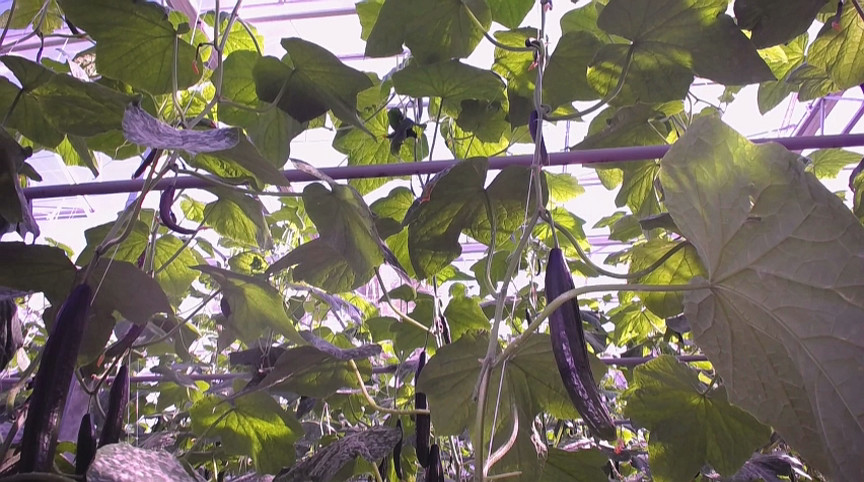cucumber: (546, 246, 619, 441), (21, 281, 95, 472), (97, 363, 132, 448), (416, 351, 431, 468), (75, 416, 97, 475)
